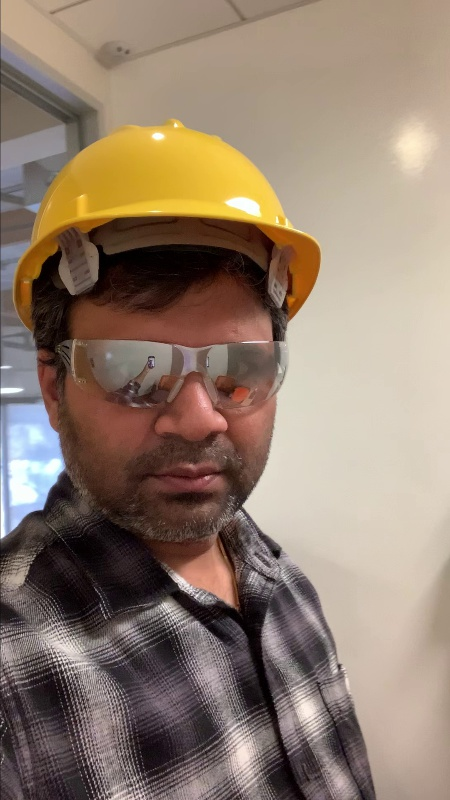glasses: (66, 337, 290, 411)
helmet: (25, 120, 300, 229)
